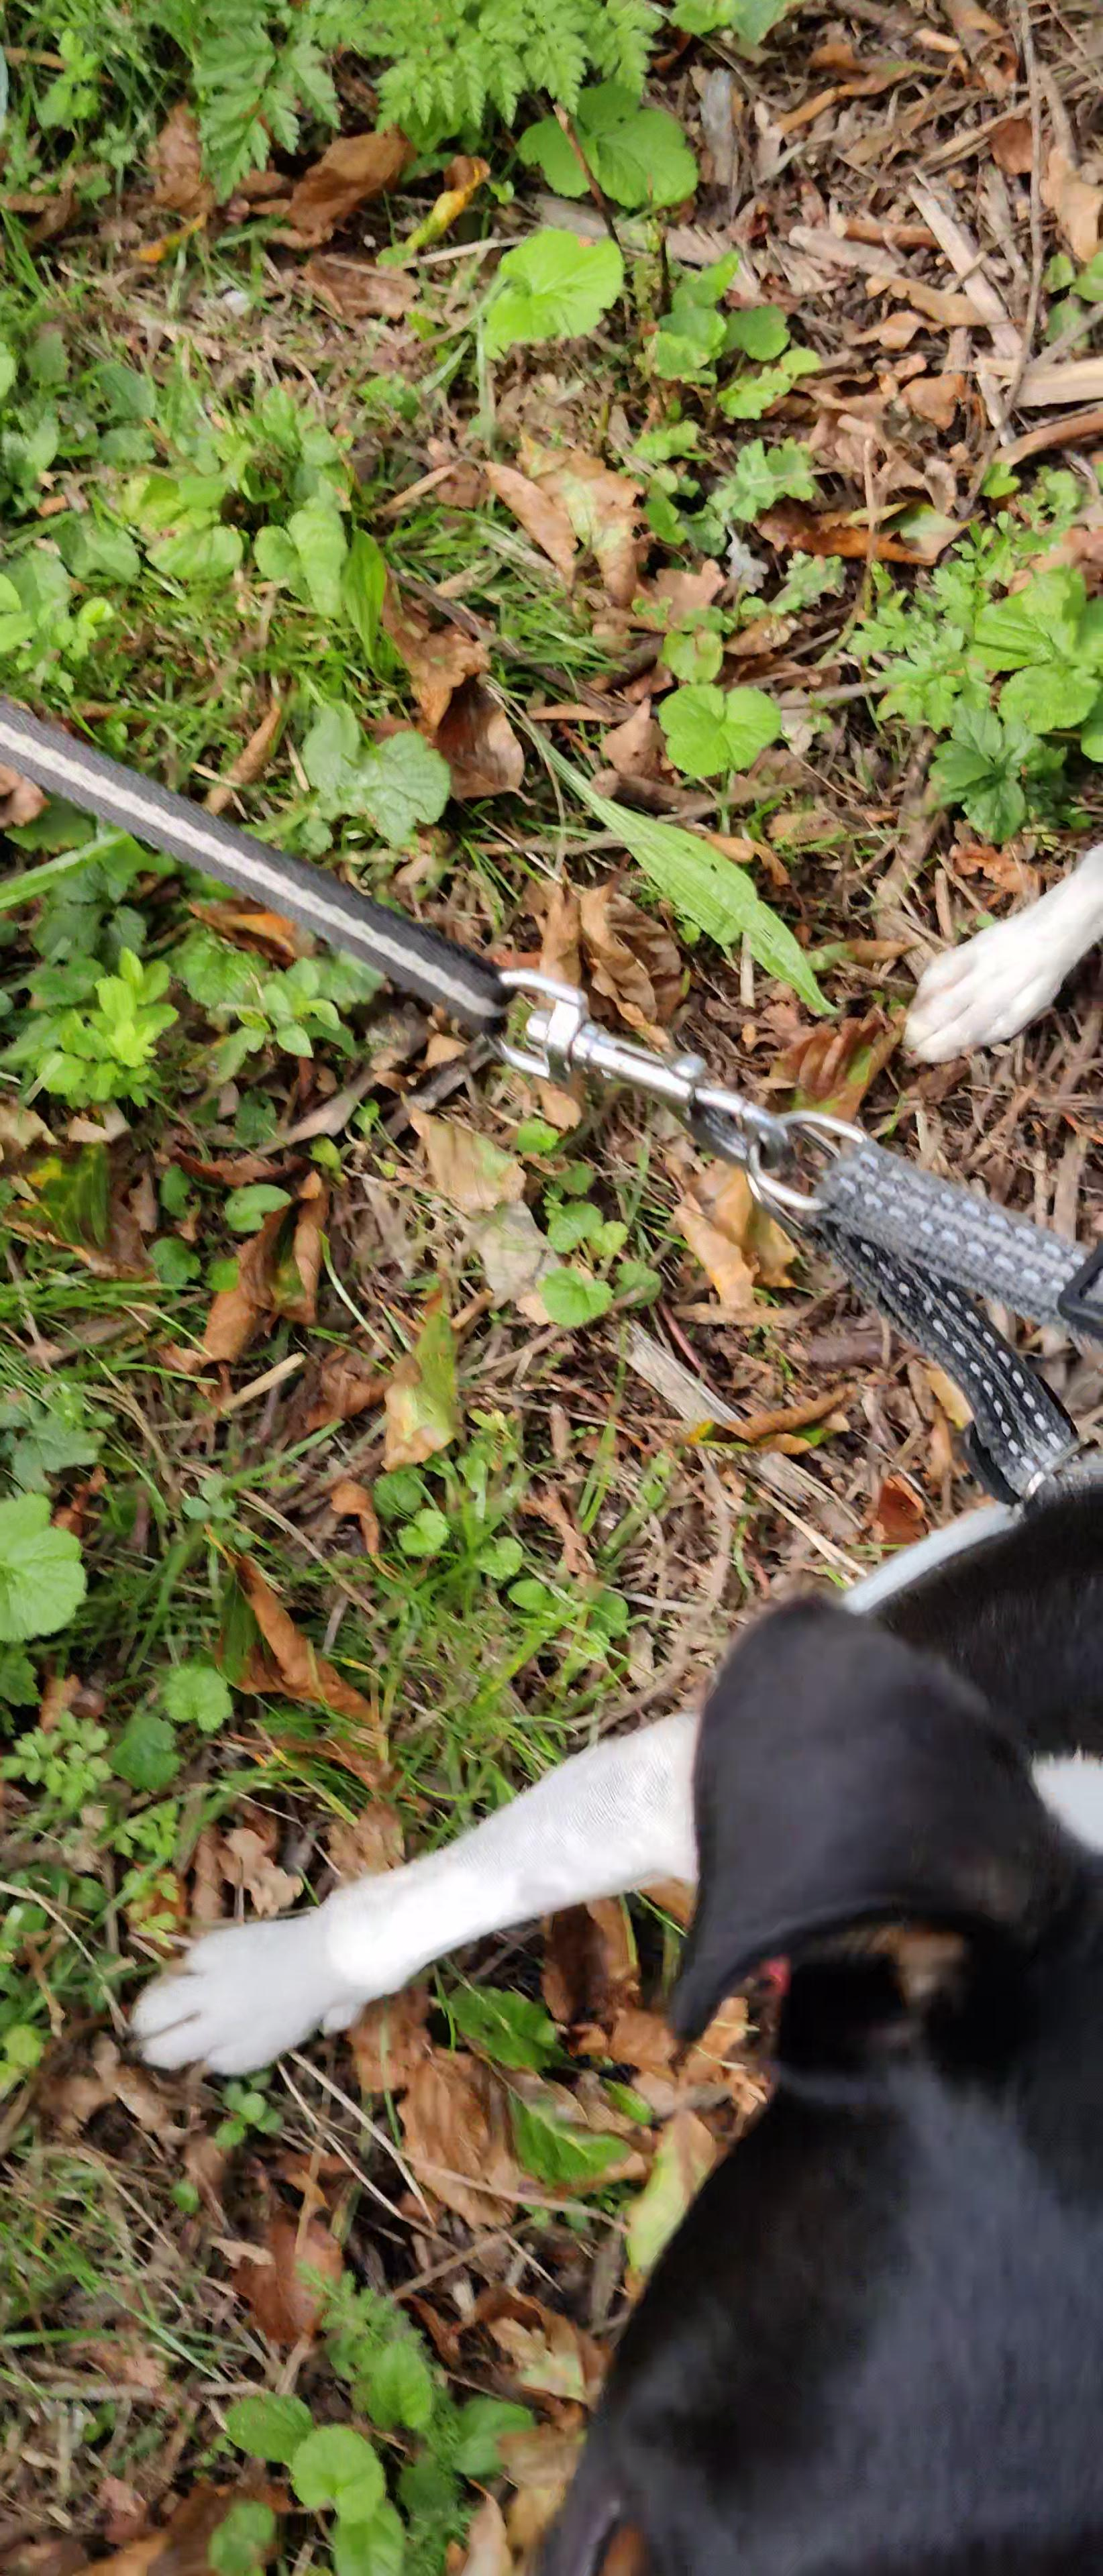Dog: (54, 793, 1103, 2576)
